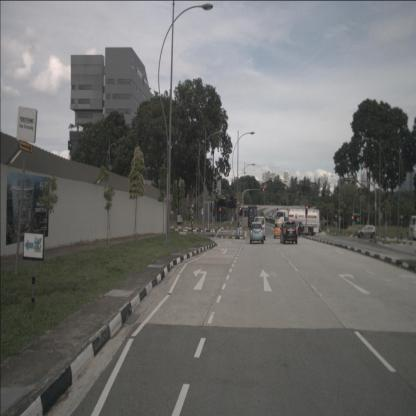vehicle-bus-rigid: (248, 206, 257, 228)
vehicle-car: (280, 221, 298, 244), (249, 222, 264, 243), (356, 224, 377, 238), (254, 216, 266, 240), (274, 222, 283, 238)
vehicle-motorcycle: (298, 221, 303, 238)
vehicle-truck: (277, 208, 320, 236), (409, 215, 416, 241)
